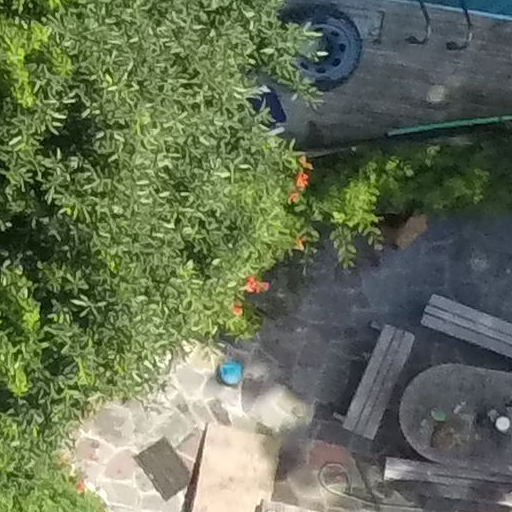table: (392, 333, 512, 475)
